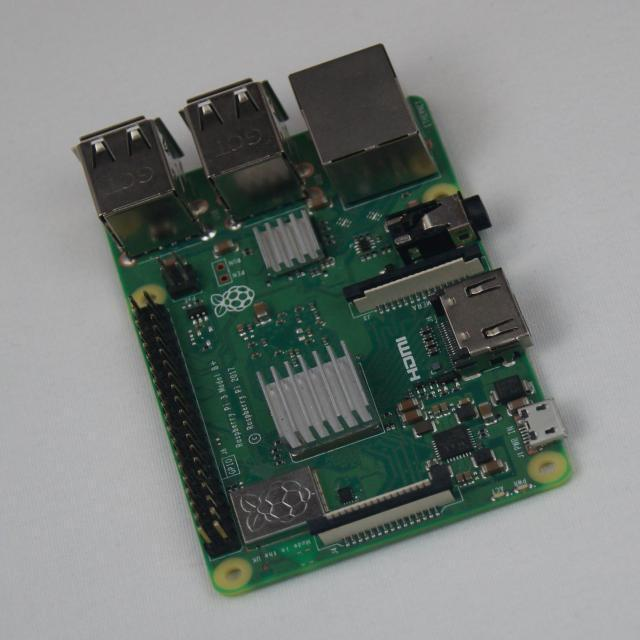Raspberry Pi 3 B-: (75, 46, 569, 594)
